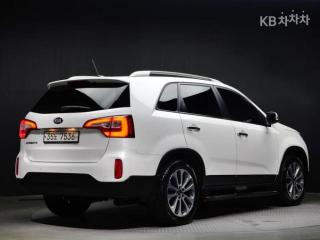3: (46, 132, 51, 141), (67, 132, 71, 141)
5: (50, 132, 54, 141), (63, 132, 67, 141)
6: (71, 131, 76, 141)
7: (59, 132, 64, 140)
plate: (39, 127, 84, 146)
노: (54, 132, 58, 140)
